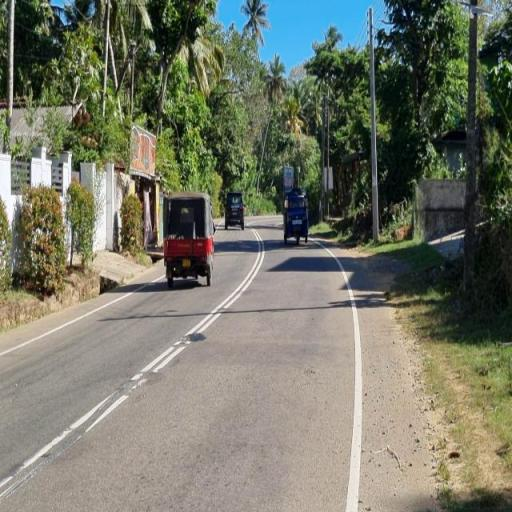double_white_line: (130, 229, 267, 390)
